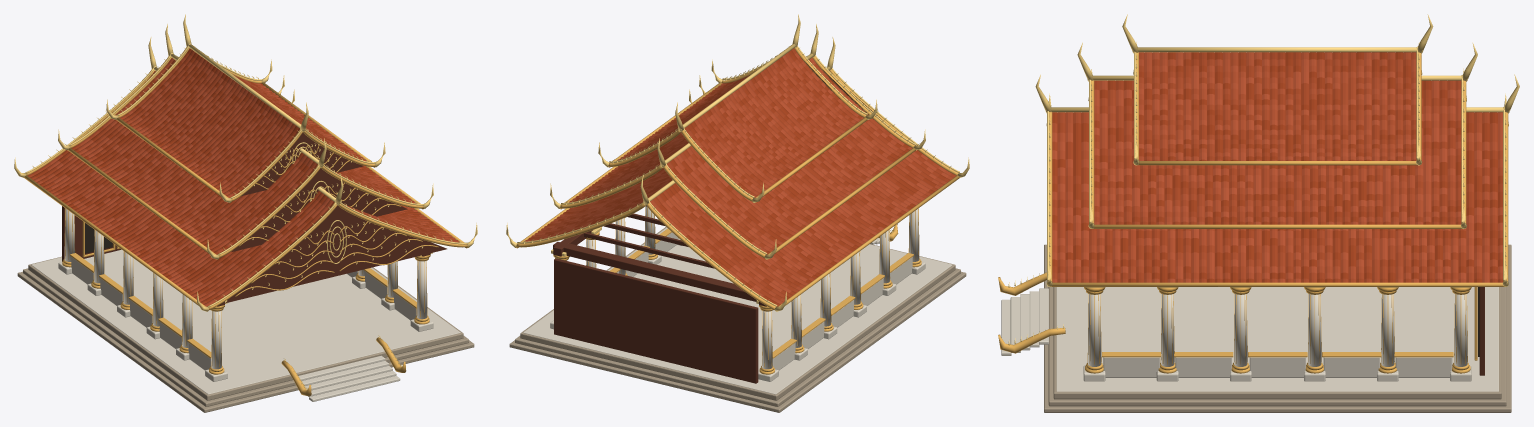
File: temple.glb
The picture shows the model from 3 angles, left to right: view 1: azimuth 30°, elevation 25°; view 2: azimuth 150°, elevation 25°; view 3: azimuth 270°, elevation 25°; orthographic projection. The views are drawn at different scales.
Parts seen in each view (by area): view 1: temple / Warm carved limestone, temple / Antique warm gold, temple / Dark carved teak, temple / Fired terracotta 00, temple / Fired terracotta 03, temple / Fired terracotta 01, temple / Fired terracotta 02, temple / Fired terracotta 04, temple / Sandstone plinth, temple / Raised gold ornament; view 2: temple / Dark carved teak, temple / Warm carved limestone, temple / Fired terracotta 00, temple / Fired terracotta 03, temple / Fired terracotta 01, temple / Antique warm gold, temple / Fired terracotta 02, temple / Fired terracotta 04, temple / Sandstone plinth, temple / Raised gold ornament; view 3: temple / Warm carved limestone, temple / Fired terracotta 00, temple / Fired terracotta 02, temple / Fired terracotta 03, temple / Fired terracotta 04, temple / Fired terracotta 01, temple / Antique warm gold, temple / Sandstone plinth, temple / Raised gold ornament, temple / Dark carved teak.
Boxes of the visible parts, x1=… form: temple / Warm carved limestone: x1=31, y1=208, x2=460, y2=401; temple / Antique warm gold: x1=24, y1=47, x2=467, y2=396; temple / Dark carved teak: x1=62, y1=132, x2=446, y2=306; temple / Fired terracotta 00: x1=34, y1=48, x2=454, y2=304; temple / Fired terracotta 03: x1=36, y1=57, x2=459, y2=306; temple / Fired terracotta 01: x1=30, y1=50, x2=443, y2=304; temple / Fired terracotta 02: x1=27, y1=55, x2=458, y2=306; temple / Fired terracotta 04: x1=33, y1=58, x2=447, y2=304; temple / Sandstone plinth: x1=17, y1=256, x2=474, y2=412; temple / Raised gold ornament: x1=14, y1=14, x2=477, y2=390; temple / Dark carved teak: x1=553, y1=61, x2=883, y2=383; temple / Warm carved limestone: x1=523, y1=206, x2=952, y2=394; temple / Fired terracotta 00: x1=528, y1=50, x2=949, y2=303; temple / Fired terracotta 03: x1=534, y1=53, x2=953, y2=302; temple / Fired terracotta 01: x1=532, y1=48, x2=950, y2=306; temple / Antique warm gold: x1=516, y1=47, x2=959, y2=374; temple / Fired terracotta 02: x1=531, y1=52, x2=956, y2=297; temple / Fired terracotta 04: x1=525, y1=54, x2=949, y2=304; temple / Sandstone plinth: x1=509, y1=227, x2=966, y2=412; temple / Raised gold ornament: x1=506, y1=14, x2=969, y2=311; temple / Warm carved limestone: x1=1001, y1=287, x2=1498, y2=391; temple / Fired terracotta 00: x1=1052, y1=52, x2=1502, y2=282; temple / Fired terracotta 02: x1=1052, y1=52, x2=1502, y2=282; temple / Fired terracotta 03: x1=1052, y1=52, x2=1502, y2=282; temple / Fired terracotta 04: x1=1052, y1=52, x2=1502, y2=282; temple / Fired terracotta 01: x1=1052, y1=52, x2=1503, y2=282; temple / Antique warm gold: x1=998, y1=52, x2=1508, y2=373; temple / Sandstone plinth: x1=1044, y1=244, x2=1511, y2=412; temple / Raised gold ornament: x1=1008, y1=14, x2=1519, y2=345; temple / Dark carved teak: x1=1479, y1=287, x2=1484, y2=375.
Size of the model in its own units: 20.76 by 17.95 by 26.79.
